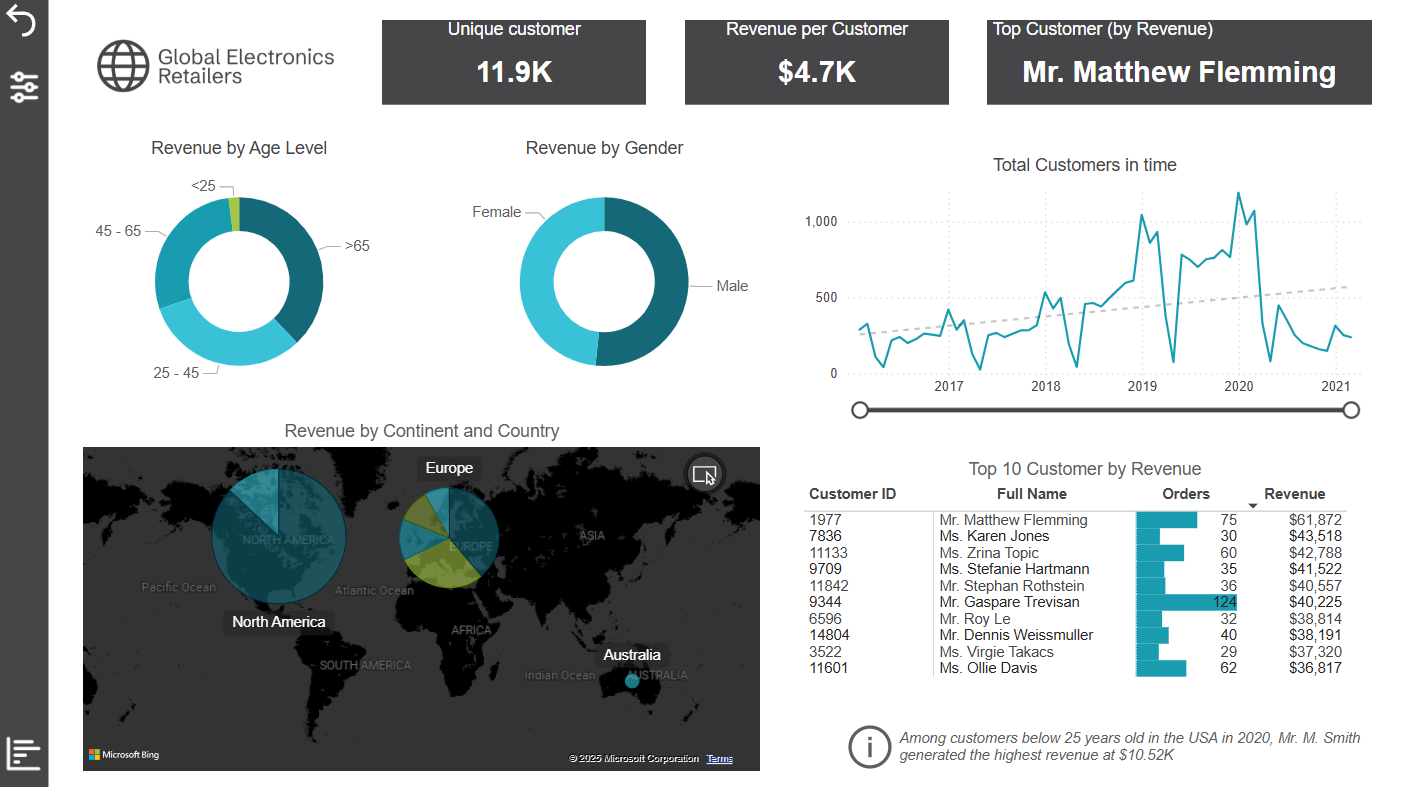

This screenshot's page, from the dashboard's own definition file:
{"tool":"powerbi","page":{"name":"Customer Info","canvas":[1280,720],"ordinal":1},"visuals":[{"type":"shape","title":"Left navi background","box":[0,0,45,720],"z":0},{"type":"image","box":[45,0,303.3,118.3],"z":1000},{"type":"card","title":"Unique customer","fields":{"Values":["Measure Table.Total Customers"]},"box":[348.3,20,240,76.7],"z":2000},{"type":"card","title":"Revenue per Customer","fields":{"Values":["Measure Table.Avg Revenue per Customer"]},"box":[623.3,20,240,76.7],"z":3000},{"type":"donutChart","title":"Revenue by Age Level","fields":{"Y":["Measure Table.Total Revenue"],"Category":["dim_customers.customer_age_category"]},"box":[71.7,128.3,293,241],"z":4000},{"type":"donutChart","title":"Revenue by Gender","fields":{"Y":["Measure Table.Total Revenue"],"Category":["dim_customers.customer_gender"]},"box":[403.3,128.3,293.3,241.7],"z":5000},{"type":"lineChart","fields":{"Y":["Measure Table.Selected Type"],"Category":["dim_dates.date_end_of_year_dt Hierarchy.date_end_of_year_dt","dim_dates.date_end_of_year_dt Hierarchy.date_end_of_month_dt","dim_dates.date_end_of_year_dt Hierarchy.date_week_ending_day_dt"]},"box":[726.7,143.3,521.7,241.7],"z":6000},{"type":"map","fields":{"Category":["dim_customers.customer_continent Hierarchy.Continent"],"Series":["dim_customers.customer_continent Hierarchy.Country"],"Size":["Measure Table.Total Revenue"]},"box":[71.7,385,625,321.7],"z":7000},{"type":"pivotTable","title":"Top 10 Customer by Revenue","fields":{"Values":["dim_customers.customer_full_name","Measure Table.Total Orders","Measure Table.Total Revenue"],"Rows":["dim_customers.customer_surr_id"]},"box":[726.7,420,521.7,213.3],"z":8000},{"type":"card","title":"Top Customer (by Revenue)","fields":{"Values":["Measure Table.Full Name (Customer Deatails)"]},"box":[898.3,20,350,76.7],"z":9000},{"type":"actionButton","box":[766.7,655.3,482,50.9],"z":10000},{"type":"actionButton","box":[0,0,46.7,40],"z":11000},{"type":"actionButton","box":[0,654.9,44.7,64.5],"z":12000},{"type":"actionButton","box":[0,49.3,46.1,63.6],"z":13000}]}

Visuals, with their boxes on the page's 1280x720 design canvas (x1, y1, x2, y2). These are canvas units, not pixel positions in the 1404x787 screenshot, which may show the page scaled, cropped or inside an application window:
"Left navi background" shape: (left=0, top=0, right=45, bottom=720)
image: (left=45, top=0, right=348, bottom=118)
"Unique customer" card: (left=348, top=20, right=588, bottom=97)
"Revenue per Customer" card: (left=623, top=20, right=863, bottom=97)
"Revenue by Age Level" donutChart: (left=72, top=128, right=365, bottom=369)
"Revenue by Gender" donutChart: (left=403, top=128, right=697, bottom=370)
lineChart - Measure Table.Selected Type x dim_dates.date_end_of_year_dt Hierarchy.date_end_of_year_dt: (left=727, top=143, right=1248, bottom=385)
map - dim_customers.customer_continent Hierarchy.Continent x dim_customers.customer_continent Hierarchy.Country: (left=72, top=385, right=697, bottom=707)
"Top 10 Customer by Revenue" pivotTable: (left=727, top=420, right=1248, bottom=633)
"Top Customer (by Revenue)" card: (left=898, top=20, right=1248, bottom=97)
actionButton: (left=767, top=655, right=1249, bottom=706)
actionButton: (left=0, top=0, right=47, bottom=40)
actionButton: (left=0, top=655, right=45, bottom=719)
actionButton: (left=0, top=49, right=46, bottom=113)
